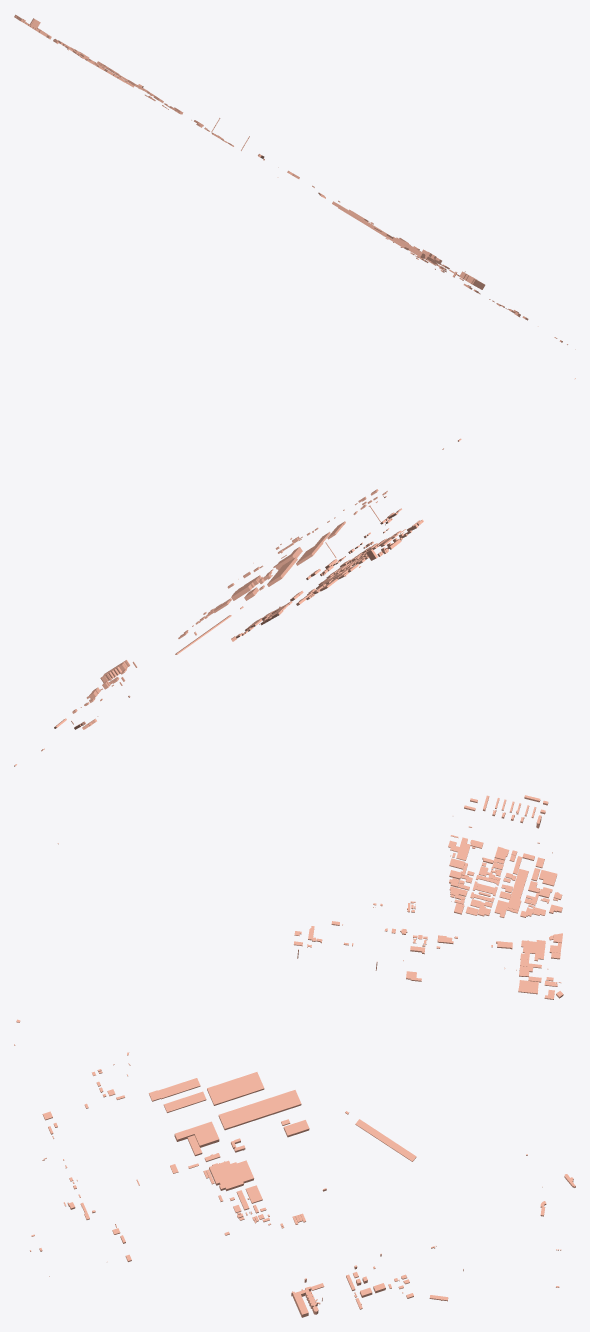
The picture shows the model from 3 angles, top to bottom: view 1: azimuth 30°, elevation 25°; view 2: azimuth 150°, elevation 25°; view 3: azimuth 270°, elevation 25°; orthographic projection. The views are drawn at different scales.
Bounding box in the file's own units: 2036 × 1527 × 2398.
